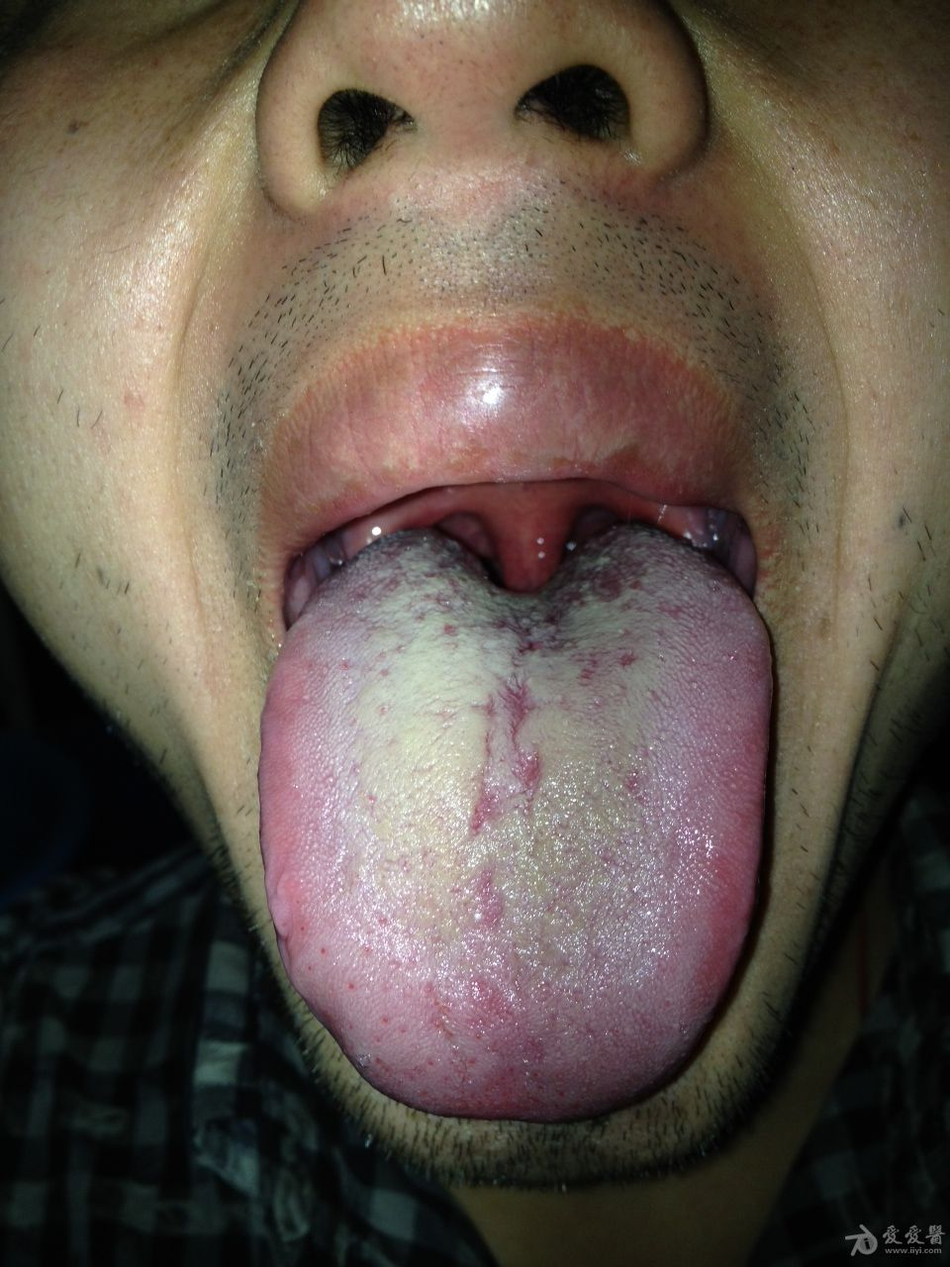hongdianshe: (339, 973, 363, 1000)
huangtaishe: (255, 525, 769, 1122)
shenquao: (417, 525, 634, 616)
